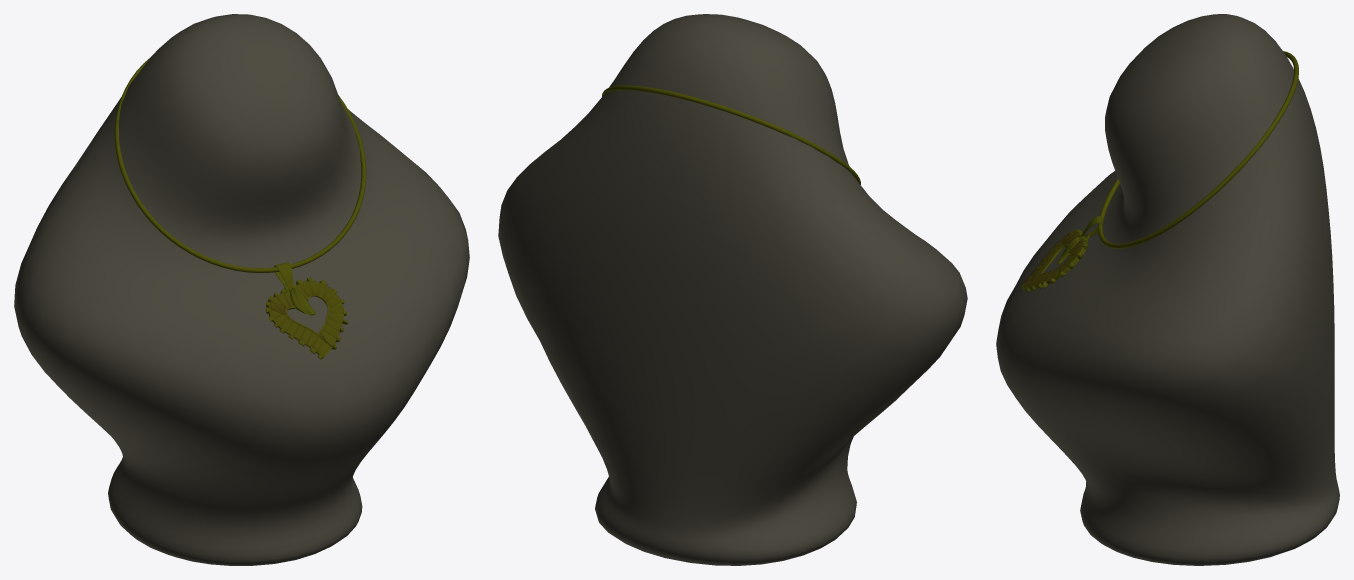
Rendered from heart_jewelry.glb.
3 views of the same model, side by side, from view 1: azimuth 30°, elevation 25°; view 2: azimuth 150°, elevation 25°; view 3: azimuth 270°, elevation 25° (orthographic). The views are drawn at different scales.
Parts seen in each view (by area): view 1: Cube, Sweep, Cube_1, Extrude_NURBS_1, Extrude_NURBS_1_2; view 2: Cube, Sweep; view 3: Cube, Sweep, Cube_1, Extrude_NURBS_1_2, Extrude_NURBS_1.
Boxes of the visible parts, bbox=[...] form: Cube: bbox=[14, 14, 469, 565]; Sweep: bbox=[114, 58, 366, 272]; Cube_1: bbox=[269, 281, 343, 356]; Extrude_NURBS_1: bbox=[265, 289, 332, 359]; Extrude_NURBS_1_2: bbox=[291, 277, 347, 349]; Cube: bbox=[498, 14, 967, 565]; Sweep: bbox=[602, 85, 860, 184]; Cube: bbox=[996, 14, 1339, 565]; Sweep: bbox=[1097, 51, 1298, 248]; Cube_1: bbox=[1021, 230, 1084, 289]; Extrude_NURBS_1_2: bbox=[1025, 236, 1087, 292]; Extrude_NURBS_1: bbox=[1021, 229, 1082, 289].
Size of the model in its own units: 441 by 489 by 303.
